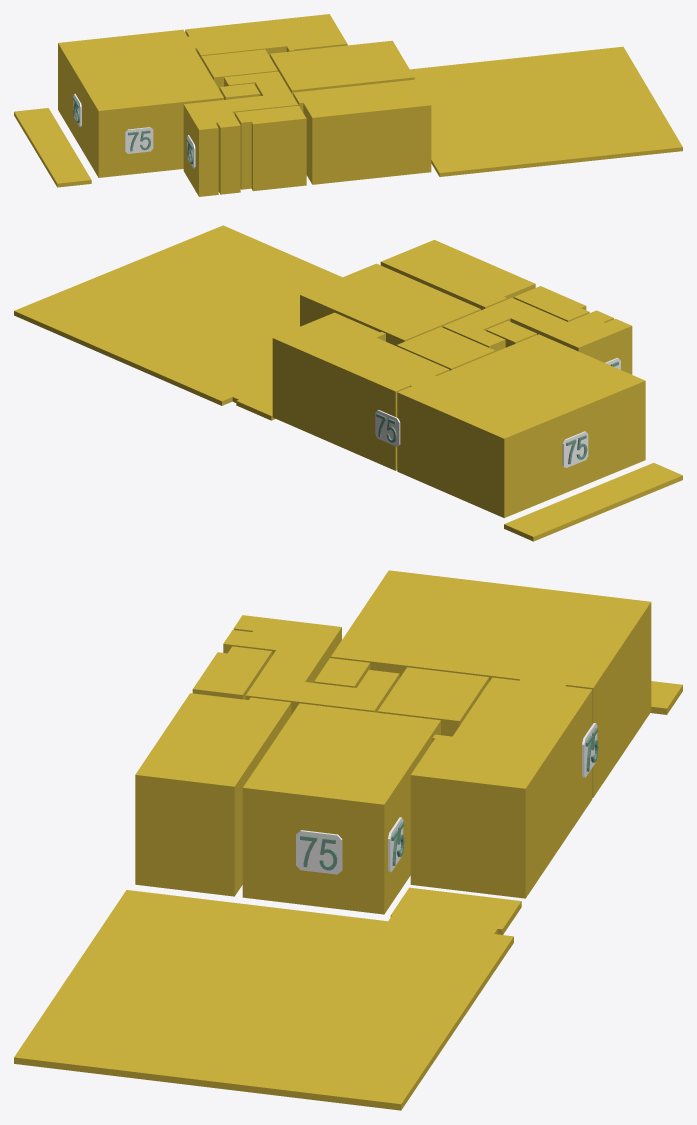
The picture shows the model from 3 angles, top to bottom: view 1: azimuth 30°, elevation 25°; view 2: azimuth 150°, elevation 25°; view 3: azimuth 270°, elevation 25°; orthographic projection. The views are drawn at different scales.
Visible parts, largest first — view 1: g_9, g_7, g_0, g_5, g_6, g_1, g_2, g_8, g_3, g_27, g_4; view 2: g_7, g_9, g_2, g_1, g_5, g_0, g_8, g_3, g_6, g_4, g_15, g_24; view 3: g_9, g_7, g_2, g_1, g_0, g_5, g_3, g_6, g_12, g_4, g_8.
Part boxes in pixels (x1=…): g_9: x1=410, y1=46, x2=682, y2=176; g_7: x1=58, y1=29, x2=223, y2=177; g_0: x1=293, y1=79, x2=431, y2=184; g_5: x1=183, y1=71, x2=298, y2=196; g_6: x1=235, y1=105, x2=306, y2=191; g_1: x1=270, y1=40, x2=414, y2=95; g_2: x1=185, y1=14, x2=347, y2=58; g_8: x1=14, y1=108, x2=91, y2=187; g_3: x1=201, y1=49, x2=277, y2=89; g_27: x1=125, y1=127, x2=153, y2=153; g_4: x1=219, y1=83, x2=260, y2=99; g_7: x1=397, y1=334, x2=645, y2=517; g_9: x1=14, y1=225, x2=342, y2=420; g_2: x1=272, y1=312, x2=449, y2=470; g_1: x1=300, y1=263, x2=480, y2=345; g_5: x1=442, y1=298, x2=632, y2=374; g_0: x1=380, y1=240, x2=535, y2=310; g_8: x1=504, y1=463, x2=682, y2=541; g_3: x1=396, y1=327, x2=495, y2=370; g_6: x1=513, y1=286, x2=589, y2=321; g_4: x1=486, y1=321, x2=536, y2=347; g_15: x1=562, y1=431, x2=588, y2=467; g_24: x1=375, y1=410, x2=400, y2=446; g_9: x1=14, y1=887, x2=521, y2=1110; g_7: x1=331, y1=570, x2=651, y2=797; g_2: x1=410, y1=677, x2=592, y2=898; g_1: x1=242, y1=703, x2=440, y2=914; g_0: x1=135, y1=693, x2=291, y2=896; g_5: x1=223, y1=615, x2=399, y2=714; g_3: x1=377, y1=667, x2=488, y2=736; g_6: x1=192, y1=646, x2=272, y2=699; g_12: x1=296, y1=830, x2=342, y2=874; g_4: x1=314, y1=658, x2=370, y2=687; g_8: x1=650, y1=681, x2=682, y2=714.
Bounding box in the file's own units: 22.75 × 2.74 × 14.21.
